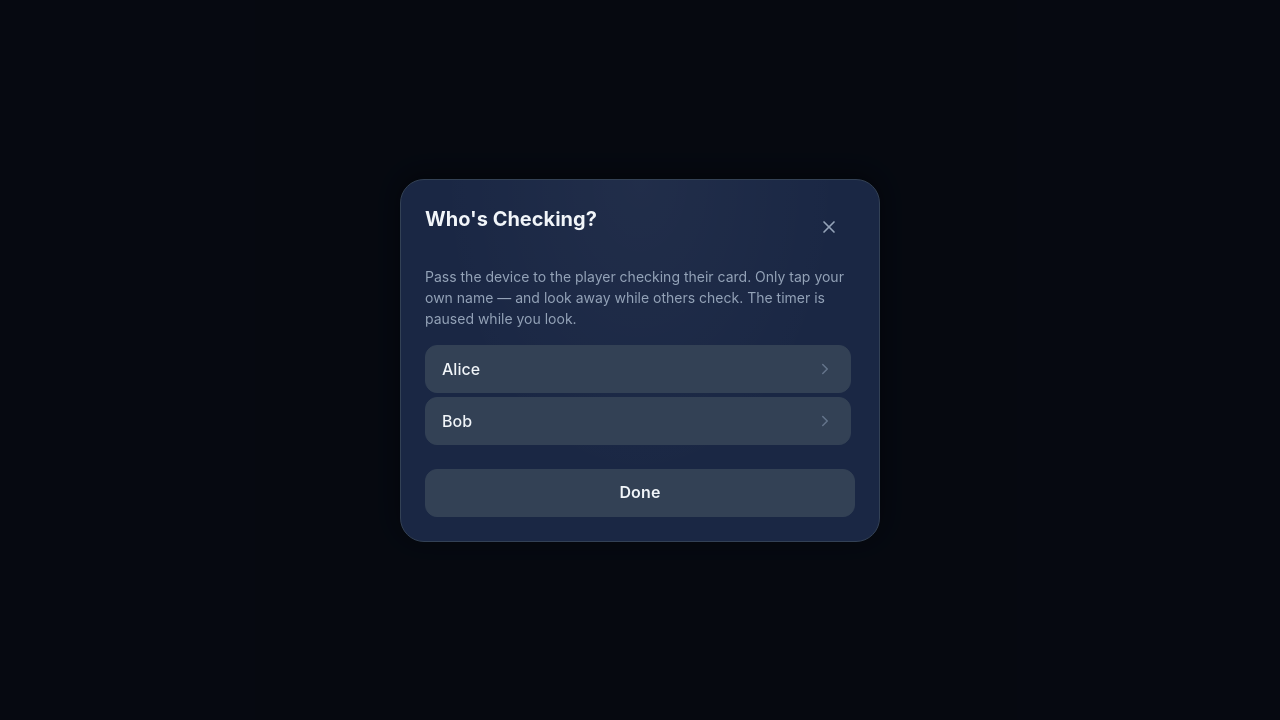
Test: RoleReviewModal › shows the spy message instead of the word to a spy
Step 1. Click the button "Bob" → (457, 420), box [425,396,851,444]
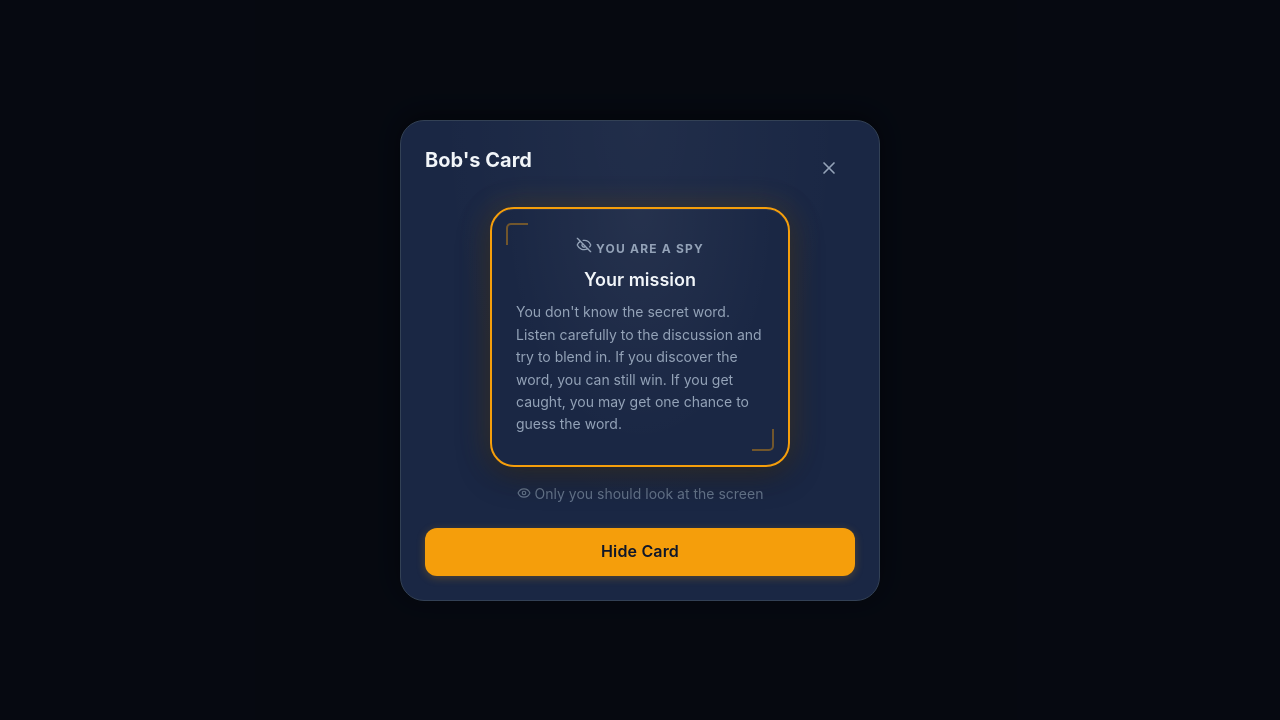
Result: the text "You are a spy" is shown at [576,237,704,258]
